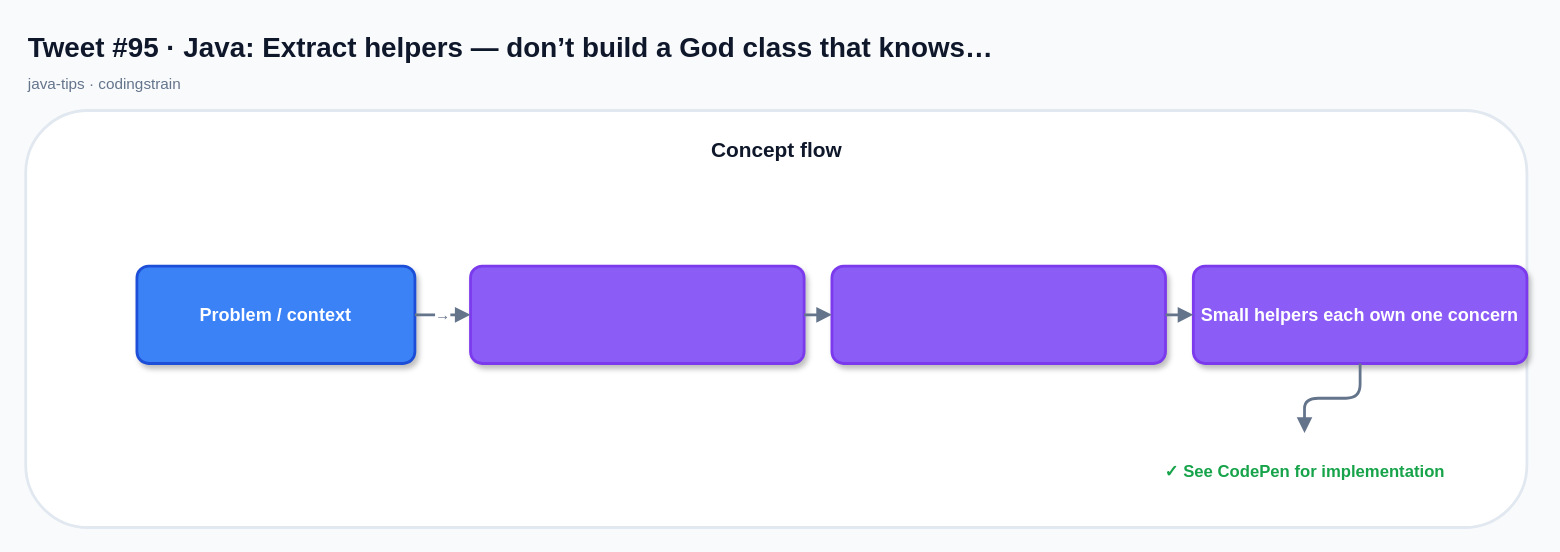
This 1560x552 diagram has some shape labels left out. The centre of each missing label's shape, as x and y in pixels:
"One class doing validation + DB + email is hard to test" belongs at point 999,316.
"💡 Java: Extract helpers — don’t build a God class that knows everythin" belongs at point 638,316.
